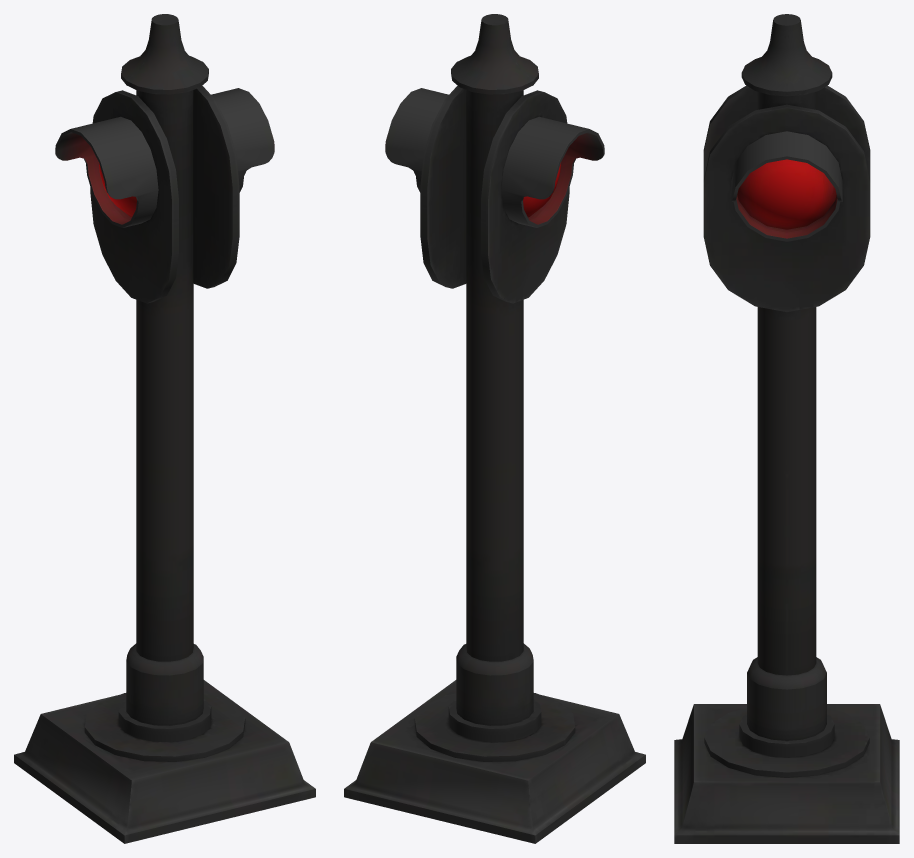
3 views of the same model, side by side, from view 1: azimuth 30°, elevation 25°; view 2: azimuth 150°, elevation 25°; view 3: azimuth 270°, elevation 25° (orthographic). The views are drawn at different scales.
Parts seen in each view (by area): view 1: body0_model0_lod0_mesh1, body0_model0_lod0_mesh0; view 2: body0_model0_lod0_mesh1, body0_model0_lod0_mesh0; view 3: body0_model0_lod0_mesh1, body0_model0_lod0_mesh0.
Boxes of the visible parts, box(x1,y1,x2,y2) form: body0_model0_lod0_mesh1: box(14, 14, 315, 843); body0_model0_lod0_mesh0: box(55, 88, 274, 227); body0_model0_lod0_mesh1: box(344, 14, 645, 843); body0_model0_lod0_mesh0: box(385, 88, 604, 227); body0_model0_lod0_mesh1: box(674, 14, 899, 843); body0_model0_lod0_mesh0: box(731, 131, 842, 241).
Bounding box in the file's own units: 29.57 × 112 × 29.57.
2 materials, 2 textured.
